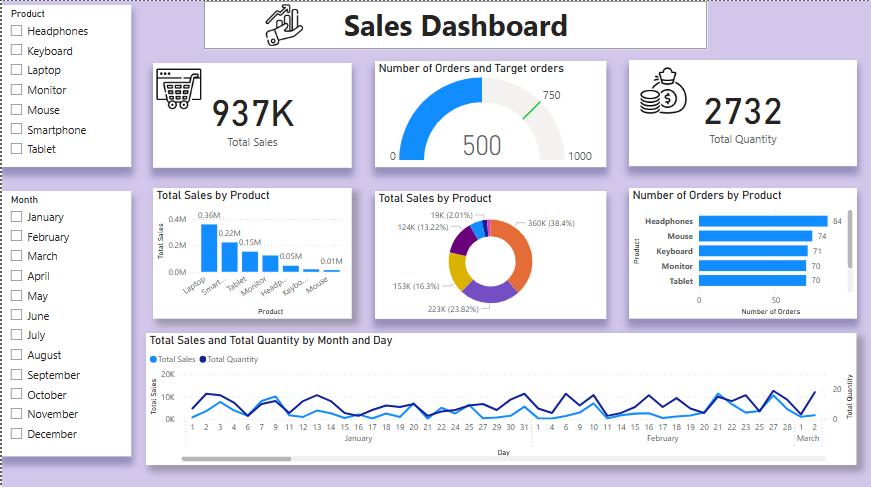

The page's visual inventory and layout, read from the dashboard file:
{"tool":"powerbi","page":{"name":"Sales analysis","canvas":[1280,720],"ordinal":0},"visuals":[{"type":"lineChart","fields":{"Category":["Sales.OrderDate.Variation.Date Hierarchy.Month","Sales.OrderDate.Variation.Date Hierarchy.Day"],"Y":["Sales.Total Sales"],"Y2":["Sales.Total Quantity"]},"box":[211.5,488.5,1044.2,194.2],"z":0},{"type":"slicer","fields":{"Values":["Sales.OrderDate.Variation.Date Hierarchy.Month"]},"box":[0,278.8,190.4,390.4],"z":1000},{"type":"clusteredColumnChart","fields":{"Category":["Sales.Product"],"Y":["Sales.Total Sales"]},"box":[221.2,275,292.3,192.3],"z":2000},{"type":"slicer","fields":{"Values":["Sales.Product"]},"box":[0,5.8,190.4,238.5],"z":3000},{"type":"clusteredBarChart","fields":{"Category":["Sales.Product"],"Y":["Sales.Number of Orders"]},"box":[921.2,275,334.6,192.3],"z":4000},{"type":"donutChart","fields":{"Category":["Sales.Product"],"Y":["Sales.Total Sales"]},"box":[548.1,278.8,340.4,188.5],"z":5000},{"type":"card","fields":{"Values":["Sales.Total Sales"]},"box":[221.2,90.4,292.3,153.8],"z":6000},{"type":"gauge","fields":{"Y":["Sales.Number of Orders"],"TargetValue":["Sales.Target orders"]},"box":[548.1,88.5,340.4,155.8],"z":7000},{"type":"card","fields":{"Values":["Sales.Total Quantity"]},"box":[921.2,86.5,334.6,155.8],"z":8000},{"type":"textbox","box":[296.2,0,740.4,71.2],"z":9000},{"type":"image","box":[367.3,0,94,70.5],"z":9001},{"type":"image","box":[221.9,88.2,76.4,82.3],"z":9002},{"type":"image","box":[933.1,92.6,77.9,77.9],"z":9003}]}

Visuals, with their boxes in screenshot pixels (x1, y1, x2, y2), scaled from the page's 1280x720 canvas onto the 871x487 screenshot:
lineChart - Sales.OrderDate.Variation.Date Hierarchy.Month x Sales.OrderDate.Variation.Date Hierarchy.Day: select_region(144, 330, 854, 462)
slicer - Sales.OrderDate.Variation.Date Hierarchy.Month: select_region(0, 189, 130, 453)
clusteredColumnChart - Sales.Product x Sales.Total Sales: select_region(151, 186, 349, 316)
slicer - Sales.Product: select_region(0, 4, 130, 165)
clusteredBarChart - Sales.Product x Sales.Number of Orders: select_region(627, 186, 855, 316)
donutChart - Sales.Product x Sales.Total Sales: select_region(373, 189, 605, 316)
card - Sales.Total Sales: select_region(151, 61, 349, 165)
gauge - Sales.Number of Orders x Sales.Target orders: select_region(373, 60, 605, 165)
card - Sales.Total Quantity: select_region(627, 59, 855, 164)
textbox: select_region(202, 0, 705, 48)
image: select_region(250, 0, 314, 48)
image: select_region(151, 60, 203, 115)
image: select_region(635, 63, 688, 115)
